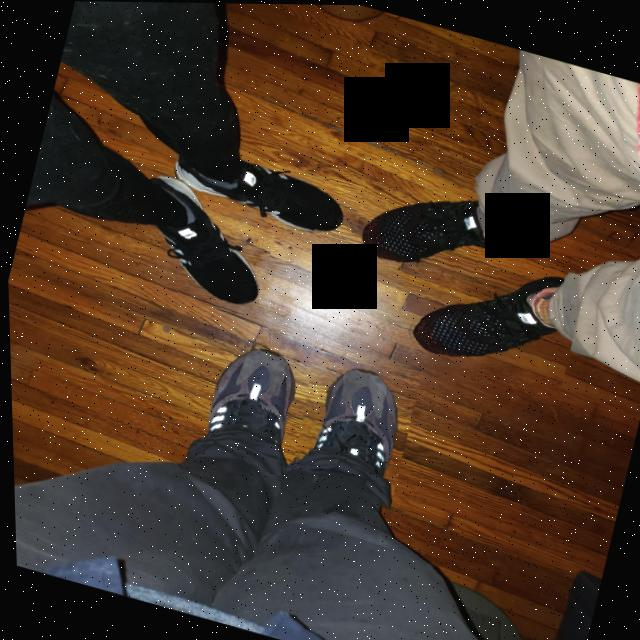shoe: (390, 229, 588, 400), (343, 148, 558, 303), (105, 166, 282, 320), (156, 133, 365, 255), (276, 350, 421, 512), (186, 326, 319, 478)
